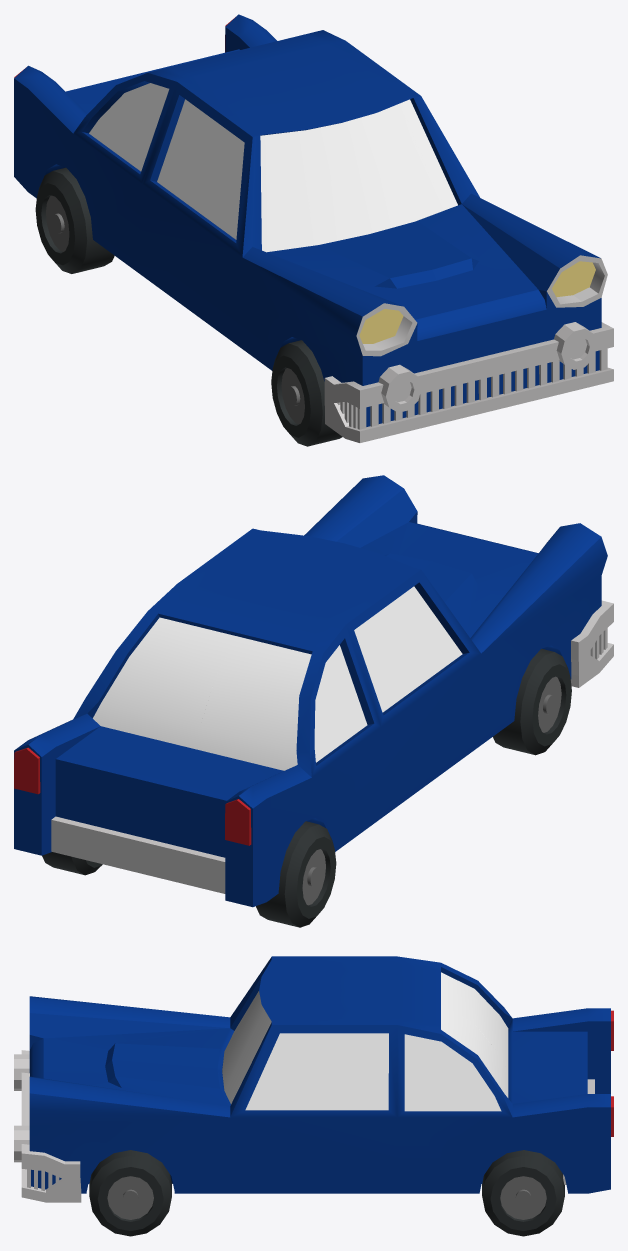
Rendered from obj_sportscar_2.fbx.
3 renders of one model, top to bottom at view 1: azimuth 30°, elevation 25°; view 2: azimuth 150°, elevation 25°; view 3: azimuth 270°, elevation 25°, orthographic. The views are drawn at different scales.
Parts seen in each view (by area): view 1: obj_sportscar_2; view 2: obj_sportscar_2; view 3: obj_sportscar_2.
Boxes of the visible parts, x1,y1,x2,y2 form: obj_sportscar_2: [14, 14, 613, 446]; obj_sportscar_2: [14, 475, 613, 927]; obj_sportscar_2: [14, 956, 613, 1236].
Size of the model in its own units: 1.38 by 1.19 by 3.3.
Materials: 3 (3 with a texture image).
